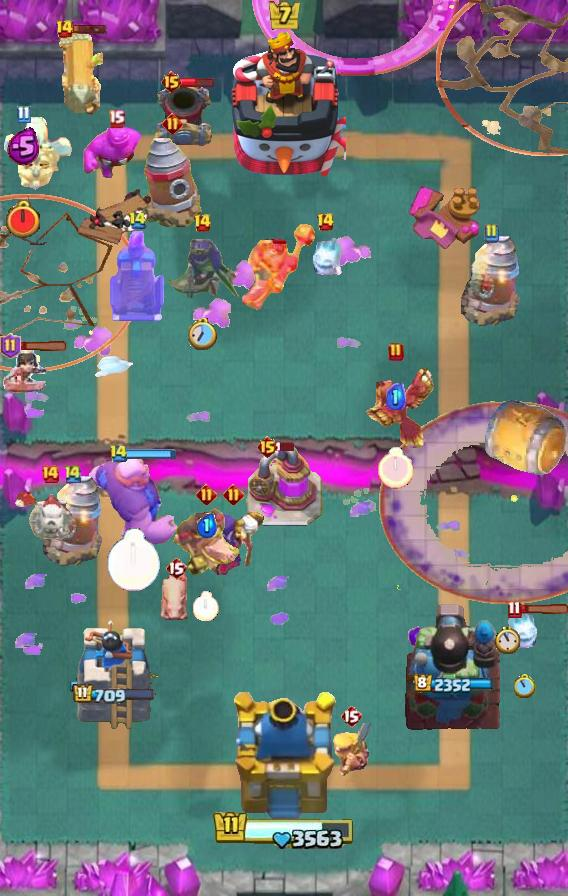arrows: (331, 723, 372, 777)
axe: (201, 509, 265, 575)
balloon: (86, 455, 180, 547)
barbarian-hut: (160, 236, 245, 306)
bat: (303, 236, 347, 282), (503, 609, 547, 655)
battle-healer: (57, 33, 103, 117)
clock: (212, 810, 356, 852)
dirt: (482, 397, 568, 479)
electro-spirit: (8, 126, 41, 165), (195, 514, 217, 539), (386, 382, 406, 409)
elixir: (106, 528, 161, 592), (4, 200, 42, 241), (378, 447, 414, 489), (188, 318, 217, 350), (193, 591, 219, 621), (495, 626, 520, 654), (514, 674, 536, 698)
emote: (125, 448, 177, 460), (17, 341, 69, 352), (520, 605, 568, 616), (72, 23, 109, 35), (181, 76, 216, 88), (276, 441, 296, 452)
freeze: (238, 224, 318, 318), (171, 503, 241, 577)
giant: (159, 571, 193, 627)
golden-knight: (358, 367, 434, 449)
guard: (0, 194, 140, 373), (436, 0, 568, 156)
ice-spirit-evolution-symbol: (107, 231, 167, 323)
king-tower: (222, 31, 346, 181), (227, 692, 341, 826)
knight-evolution: (253, 0, 460, 76)
magic-archer: (139, 133, 205, 231), (461, 235, 521, 327), (43, 475, 103, 567)
mini-pekka: (0, 117, 76, 197), (13, 489, 87, 545)
musketeer: (152, 82, 214, 150)
pekka: (245, 446, 323, 528)
queen-tower: (70, 616, 158, 731)
rocket: (380, 401, 568, 605)
selected: (72, 683, 156, 706), (413, 673, 493, 695)
skeleton-dragon: (0, 345, 52, 403)
text: (256, 435, 280, 459), (161, 70, 184, 94), (165, 556, 187, 580), (340, 704, 362, 728), (0, 333, 20, 359), (162, 113, 183, 135), (195, 483, 217, 504), (224, 483, 245, 504), (63, 463, 83, 485), (54, 19, 74, 39), (40, 464, 60, 484), (317, 212, 336, 232), (193, 213, 212, 233), (129, 211, 148, 230), (108, 444, 127, 463), (107, 108, 124, 127), (483, 223, 499, 243), (388, 342, 404, 362), (507, 601, 522, 620), (17, 105, 32, 123)
tornado: (82, 124, 150, 180)
tower-bar: (403, 601, 503, 731)
